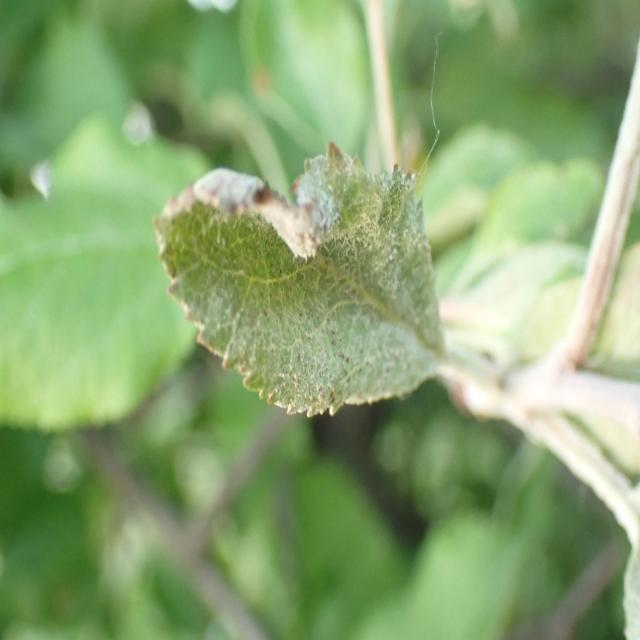Powdery_mildew: (124, 135, 479, 415)
